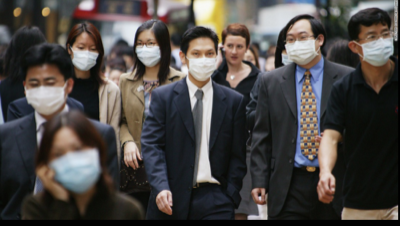with_mask: (47, 139, 100, 194), (24, 75, 68, 115), (361, 25, 395, 65), (283, 28, 320, 64), (185, 45, 218, 79), (71, 41, 100, 71), (135, 35, 161, 67)
without_mask: (224, 40, 246, 63)
